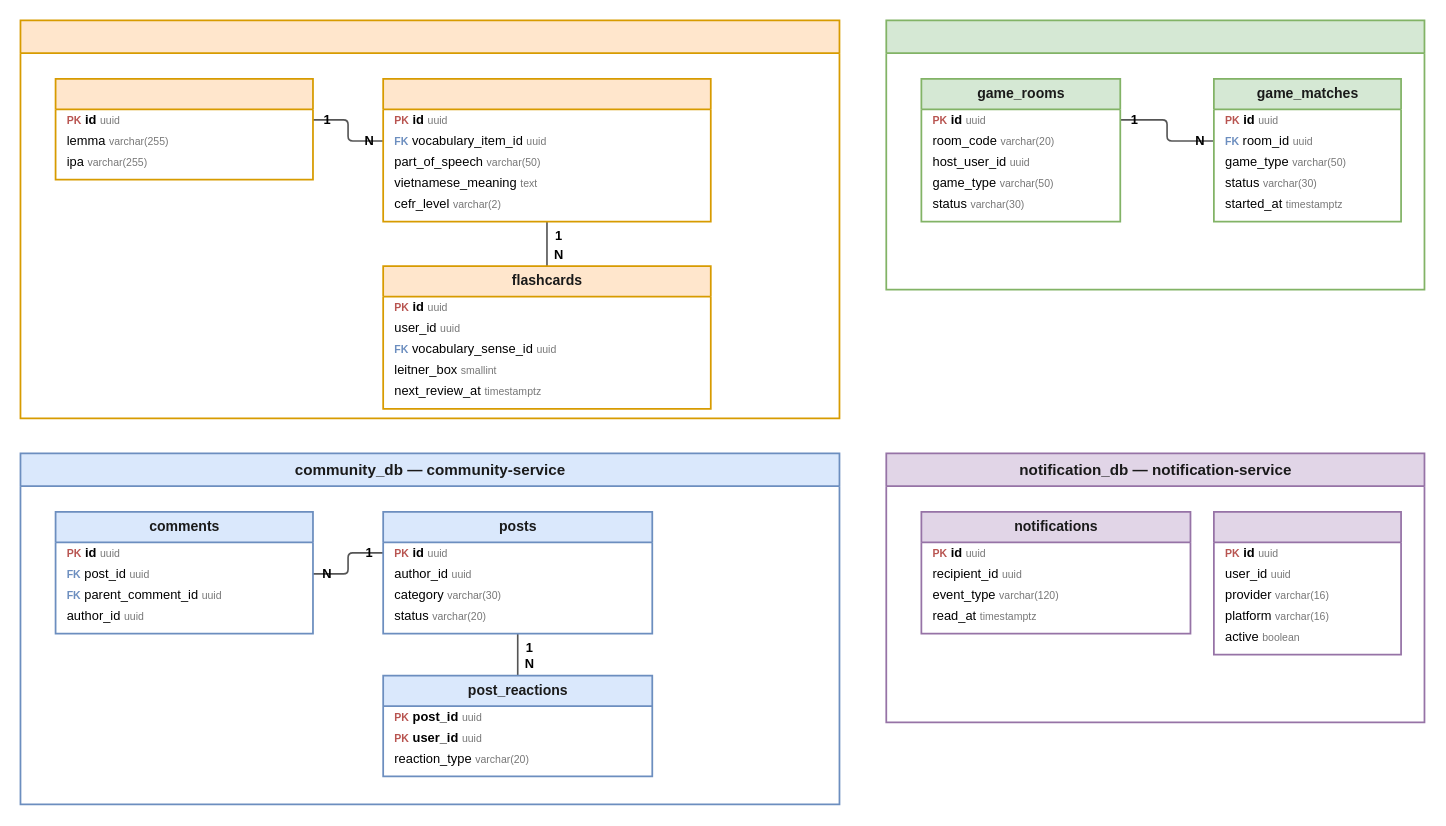
Some shapes in this 1446 by 826 pixel diagram are drawn without their labels. The shapes that lost their labels are listed below. From the top down, each one's box as (x1, y1, x2, y2) in pixels, then its label:
(54, 78, 313, 180): vocabulary_items
(382, 78, 711, 222): vocabulary_senses
(885, 19, 1425, 290): game_db — game-service
(19, 19, 840, 419): library_db — library-service
(1212, 510, 1401, 655): notification_devices
